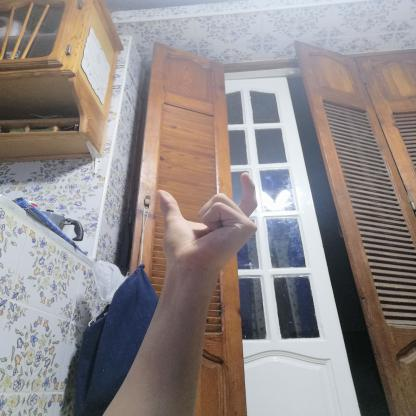NOON: (138, 160, 276, 286)
